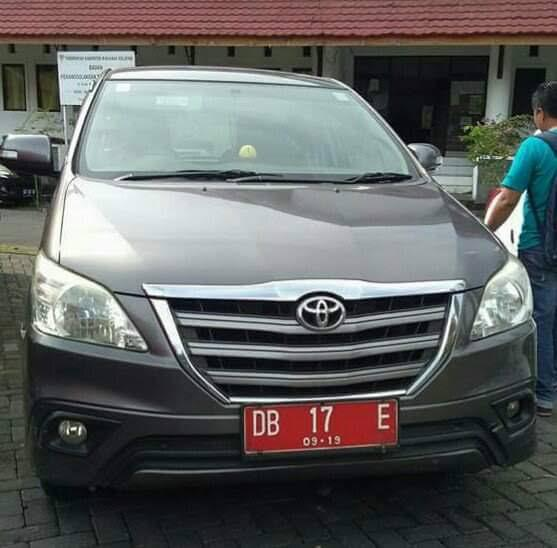plate: (242, 397, 401, 451)
